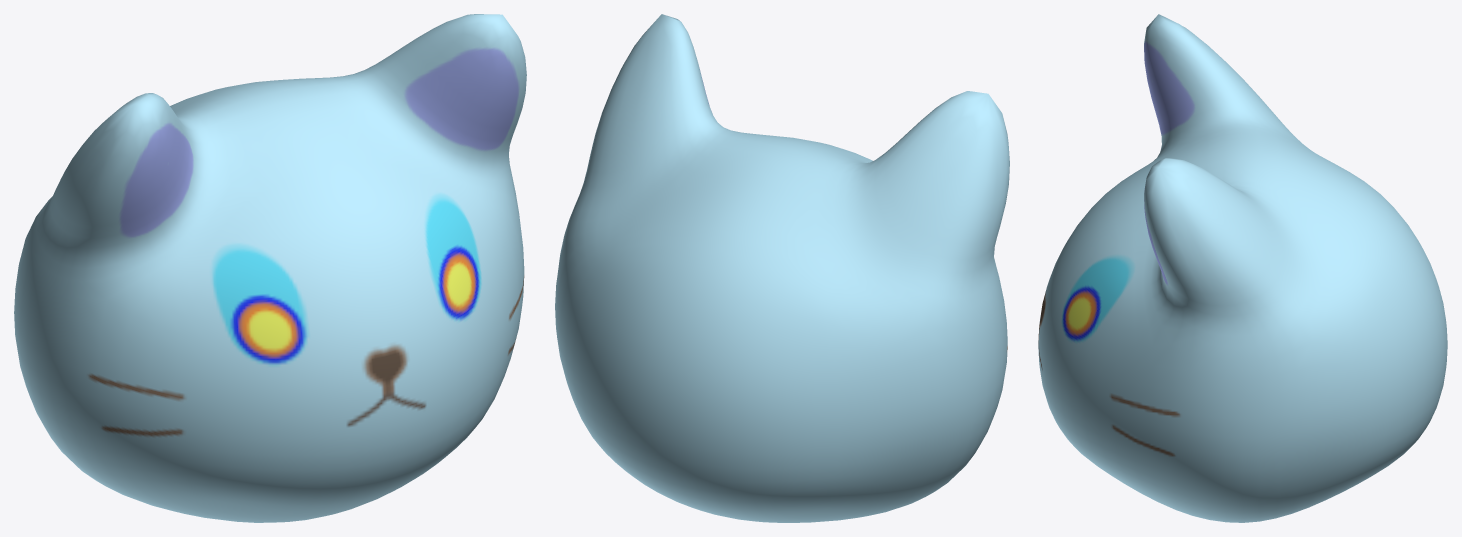
Rendered from bluecat.gltf.
The picture shows the model from 3 angles, left to right: view 1: azimuth 30°, elevation 25°; view 2: azimuth 150°, elevation 25°; view 3: azimuth 270°, elevation 25°; orthographic projection. The views are drawn at different scales.
Visible parts, largest first — view 1: Head; view 2: Head; view 3: Head.
Boxes of the visible parts, bbox=[...] form: Head: bbox=[14, 14, 526, 522]; Head: bbox=[555, 14, 1009, 522]; Head: bbox=[1038, 14, 1447, 522].
Size of the model in its own units: 2.14 by 2.09 by 1.92.
Materials: 1 (1 with a texture image).
